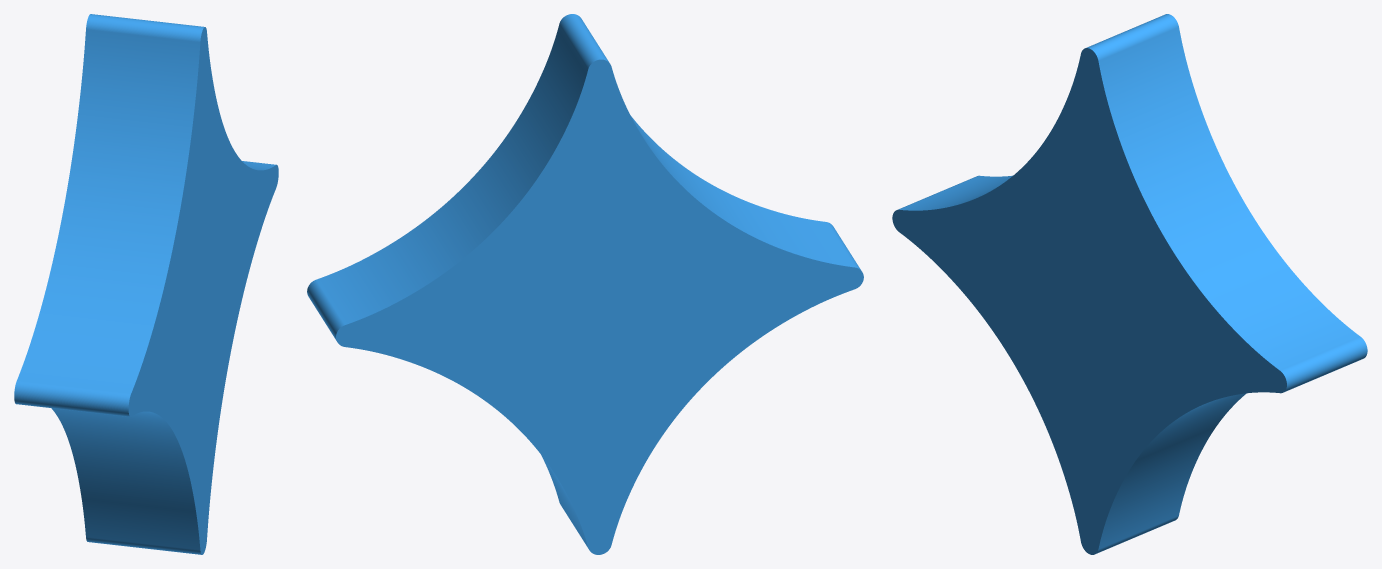
The model's file is GlassStar5.gltf.
3 views of the same model, side by side, from view 1: azimuth 30°, elevation 25°; view 2: azimuth 150°, elevation 25°; view 3: azimuth 270°, elevation 25° (orthographic). The views are drawn at different scales.
Size of the model in its own units: 42.37 by 49.76 by 42.37.
